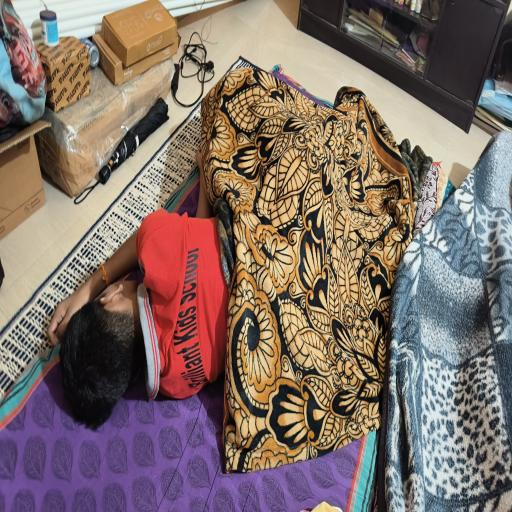survivor: (46, 145, 232, 431)
